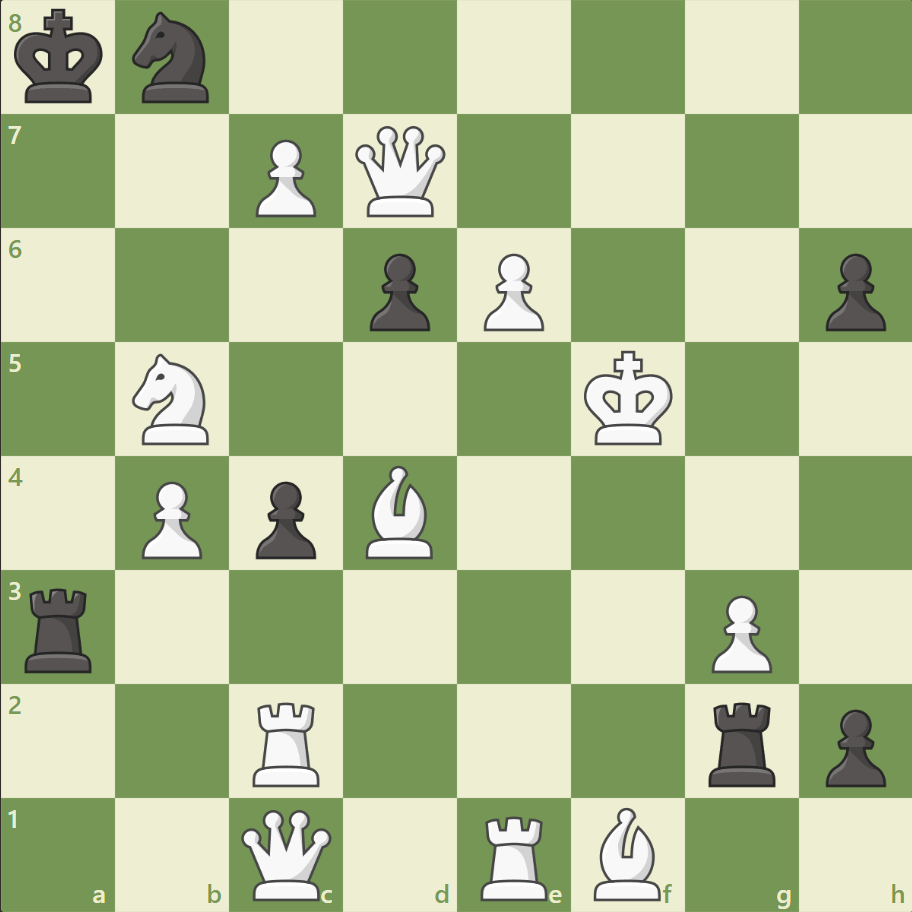B: (358, 460, 442, 563), (585, 801, 669, 904)
K: (579, 344, 679, 452)
N: (124, 348, 222, 450)
P: (247, 132, 322, 223), (474, 246, 549, 337), (133, 473, 208, 564), (701, 586, 776, 677)
Q: (351, 122, 450, 222), (237, 804, 336, 903)
R: (473, 806, 556, 904), (246, 693, 329, 790)
k: (11, 4, 111, 112)
n: (124, 7, 222, 110)
p: (247, 473, 322, 564), (361, 246, 435, 337), (815, 246, 889, 337), (815, 700, 889, 791)
r: (19, 579, 102, 676), (700, 693, 783, 790)
